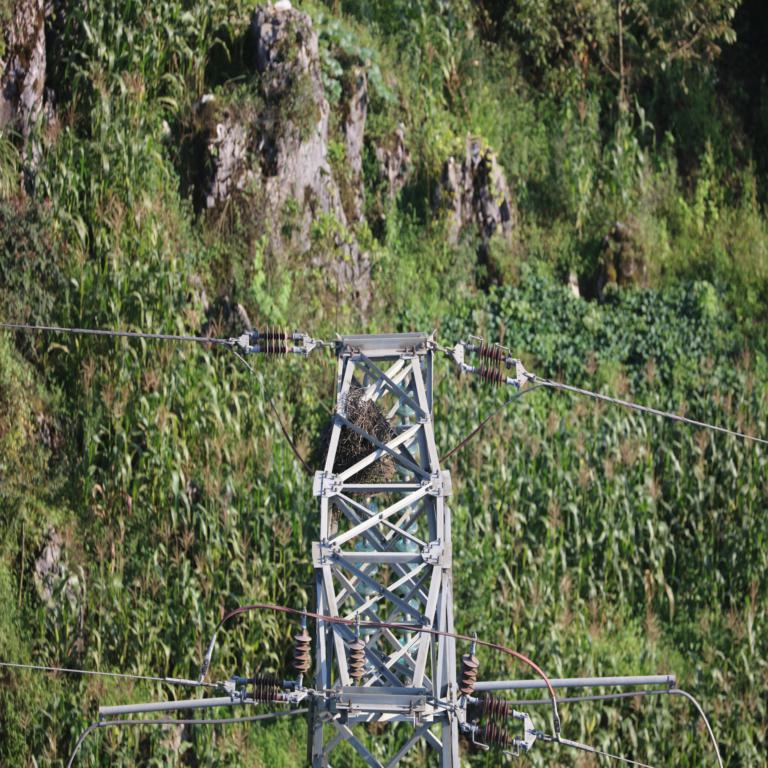nest: (322, 400, 392, 484)
